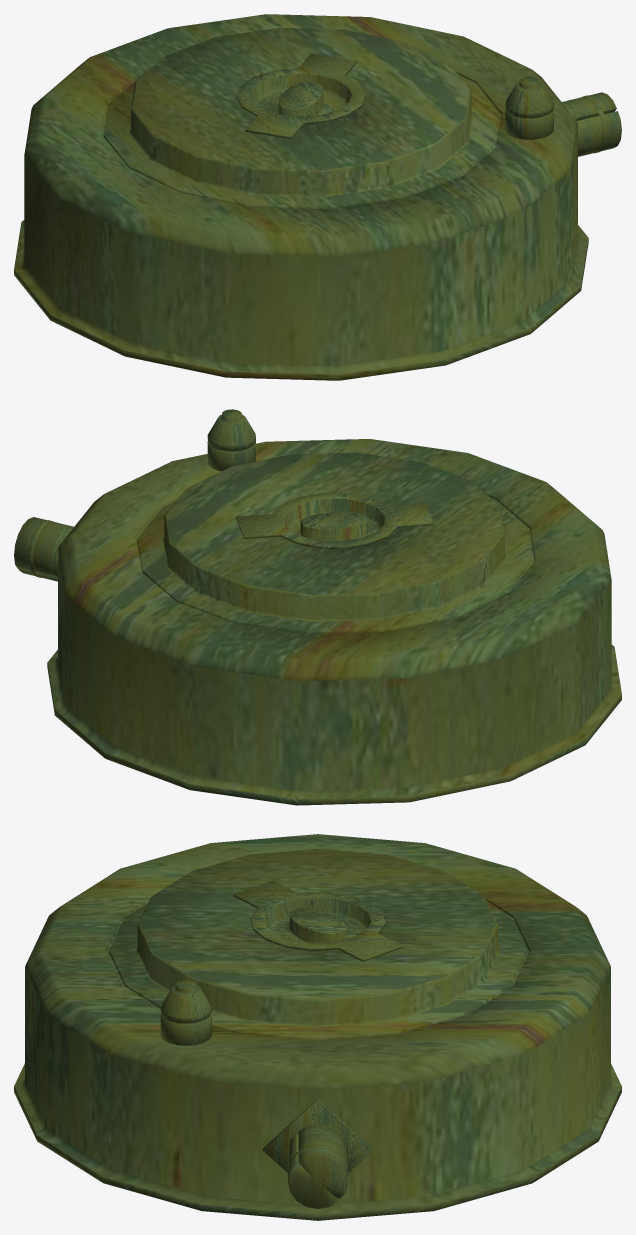
3 renders of one model, top to bottom at view 1: azimuth 30°, elevation 25°; view 2: azimuth 150°, elevation 25°; view 3: azimuth 270°, elevation 25°, orthographic. The views are drawn at different scales.
Visible parts, largest first — view 1: MineBody, MineSwitch, MinePost, MineConnectorUnit; view 2: MineBody, MineSwitch, MinePost, MineConnectorUnit; view 3: MineBody, MineSwitch, MineConnectorUnit, MinePost, MineConnectorBase.
Boxes of the visible parts, <box> form: MineBody: <box>14,14,588,380</box>; MineSwitch: <box>236,53,365,138</box>; MinePost: <box>505,76,553,139</box>; MineConnectorUnit: <box>562,92,621,156</box>; MineBody: <box>47,439,621,805</box>; MineSwitch: <box>235,493,433,548</box>; MinePost: <box>207,409,255,471</box>; MineConnectorUnit: <box>14,517,73,581</box>; MineBody: <box>14,834,621,1220</box>; MineSwitch: <box>233,880,402,961</box>; MineConnectorUnit: <box>288,1124,347,1208</box>; MinePost: <box>160,979,211,1045</box>; MineConnectorBase: <box>262,1099,373,1172</box>.
Bounding box in the file's own units: 2.3 × 0.7285 × 2.08.
Materials: 1 (1 with a texture image).
